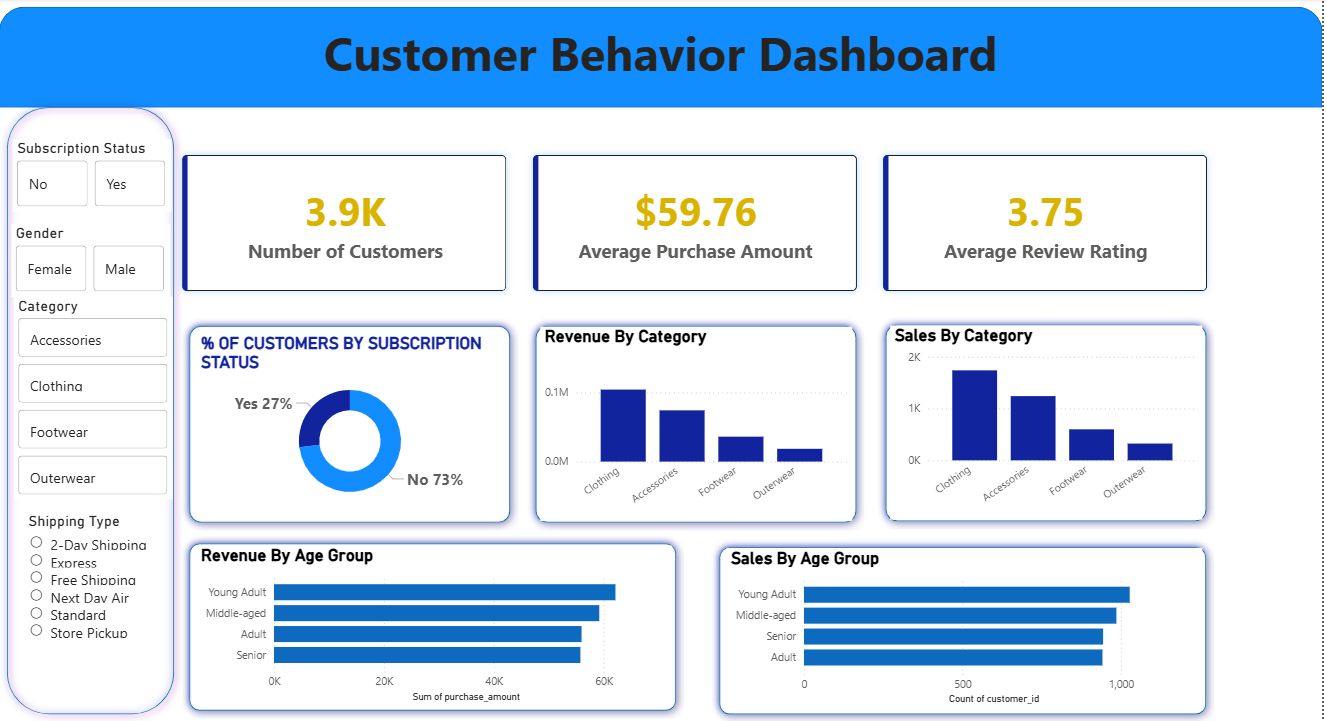

The page's visual inventory and layout, read from the dashboard file:
{"tool":"powerbi","page":{"name":"Page 1","canvas":[1500,820],"ordinal":0},"visuals":[{"type":"cardVisual","fields":{"Data":["public customer.Number of Customers","public customer.Average Purchase Amount","public customer.Average Review Rating"]},"box":[179.7,150.4,1220,210.3],"z":0},{"type":"shape","box":[0,9.7,1499.9,114.2],"z":1000},{"type":"textbox","box":[0,19.5,1499.9,94.7],"z":2000},{"type":"shape","box":[207.5,362.1,381.6,240.9],"z":3000},{"type":"donutChart","title":"% OF CUSTOMERS BY SUBSCRIPTION STATUS","fields":{"Category":["public customer.subscription_status"],"Y":["CountNonNull(public customer.customer_id)"]},"box":[224.2,380.2,348.2,201.9],"z":4000},{"type":"shape","box":[598.8,362.1,381.6,240.9],"z":5000},{"type":"shape","box":[995.8,360.7,381.6,240.9],"z":6000},{"type":"clusteredColumnChart","title":"Revenue By Category","fields":{"Y":["Sum(public customer.purchase_amount)"],"Category":["public customer.category"]},"box":[612.8,373.2,353.7,220],"z":7000},{"type":"clusteredColumnChart","title":"Sales By Category","fields":{"Y":["CountNonNull(public customer.customer_id)"],"Category":["public customer.category"]},"box":[1009.7,371.8,353.7,220],"z":8000},{"type":"shape","box":[0,114.2,207.5,706.1],"z":9000},{"type":"advancedSlicerVisual","fields":{"Values":["public customer.subscription_status"]},"box":[15.3,160.2,179.7,82.2],"z":10000},{"type":"advancedSlicerVisual","fields":{"Values":["public customer.gender"]},"box":[13.9,256.3,179.7,82.2],"z":11000},{"type":"advancedSlicerVisual","fields":{"Values":["public customer.category"]},"box":[16.7,338.4,179.7,229.8],"z":12000},{"type":"listSlicer","fields":{"Values":["public customer.shipping_type"]},"box":[27.9,582.1,151.8,193.6],"z":13000},{"type":"shape","box":[207.5,608.6,569.6,207.5],"z":14000},{"type":"shape","box":[807.7,612.8,569.6,207.5],"z":15000},{"type":"clusteredBarChart","title":"Sales By Age Group","fields":{"Y":["CountNonNull(public customer.customer_id)"],"Category":["public customer.age_group"]},"box":[824.5,623.9,539,182.4],"z":16000},{"type":"clusteredBarChart","title":"Revenue By Age Group","fields":{"Y":["Sum(public customer.purchase_amount)"],"Category":["public customer.age_group"]},"box":[224.2,621.1,539,182.4],"z":17000}]}

Visuals, with their boxes in screenshot pixels (x1, y1, x2, y2), scaled from the page's 1500x820 canvas onto the 1327x721 screenshot:
cardVisual - public customer.Number of Customers x public customer.Average Purchase Amount: bbox=[159, 132, 1238, 317]
shape: bbox=[0, 9, 1326, 109]
textbox: bbox=[0, 17, 1326, 100]
shape: bbox=[184, 318, 521, 530]
"% OF CUSTOMERS BY SUBSCRIPTION STATUS" donutChart: bbox=[198, 334, 506, 512]
shape: bbox=[530, 318, 867, 530]
shape: bbox=[881, 317, 1219, 529]
"Revenue By Category" clusteredColumnChart: bbox=[542, 328, 855, 522]
"Sales By Category" clusteredColumnChart: bbox=[893, 327, 1206, 520]
shape: bbox=[0, 100, 184, 720]
advancedSlicerVisual - public customer.subscription_status: bbox=[14, 141, 173, 213]
advancedSlicerVisual - public customer.gender: bbox=[12, 225, 171, 298]
advancedSlicerVisual - public customer.category: bbox=[15, 298, 174, 500]
listSlicer - public customer.shipping_type: bbox=[25, 512, 159, 682]
shape: bbox=[184, 535, 687, 718]
shape: bbox=[715, 539, 1218, 720]
"Sales By Age Group" clusteredBarChart: bbox=[729, 549, 1206, 709]
"Revenue By Age Group" clusteredBarChart: bbox=[198, 546, 675, 706]
